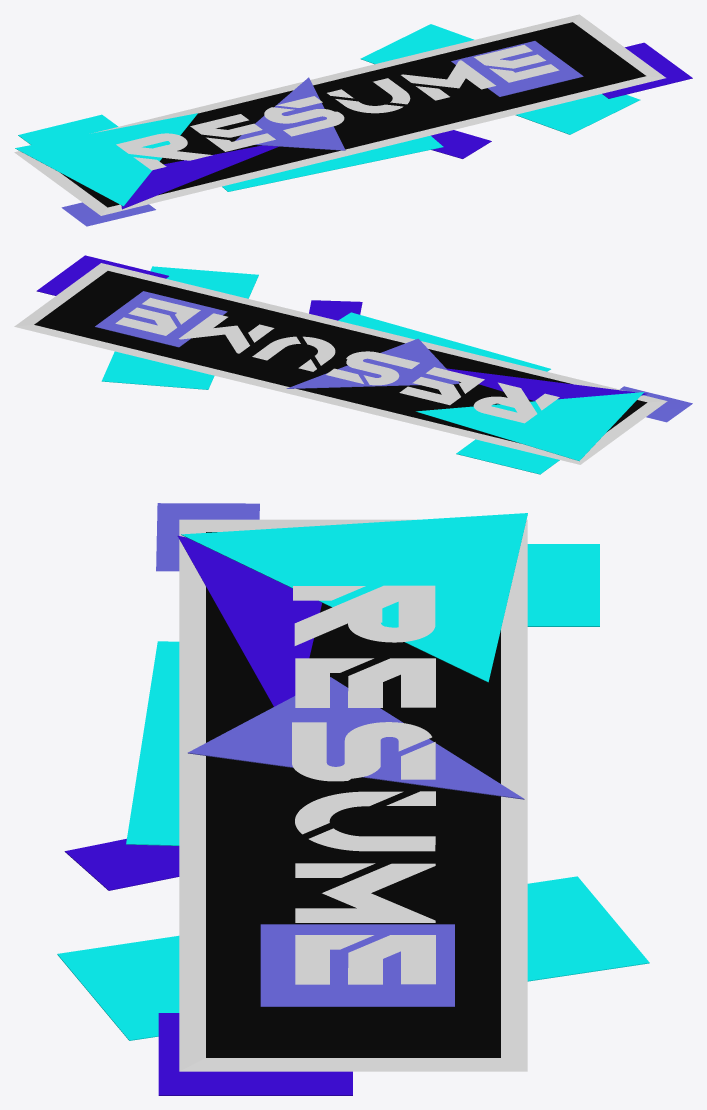
Rendered from resume.fbx.
3 renders of one model, top to bottom at view 1: azimuth 30°, elevation 25°; view 2: azimuth 150°, elevation 25°; view 3: azimuth 270°, elevation 25°, orthographic. The views are drawn at different scales.
Parts seen in each view (by area): view 1: Cube, Texte, Cube.004, Cube.001, Cube.005, Cube.008, Cube.009, Cube.003, Cube.006, Cube.002, Cube.007, Cube.010; view 2: Cube, Texte, Cube.004, Cube.001, Cube.008, Cube.009, Cube.005, Cube.003, Cube.002, Cube.006, Cube.007, Cube.010; view 3: Cube, Texte, Cube.004, Cube.001, Cube.009, Cube.008, Cube.005, Cube.003, Cube.006, Cube.002, Cube.007, Cube.010.
Part boxes in pixels (x1,y1,x2,y2): Cube: (14,14,665,215); Texte: (116,44,559,170); Cube.004: (15,113,197,206); Cube.001: (360,24,640,134); Cube.005: (121,145,278,209); Cube.008: (235,77,345,150); Cube.009: (451,41,583,96); Cube.003: (222,135,443,191); Cube.006: (602,42,692,98); Cube.002: (18,114,118,144); Cube.007: (431,130,491,158); Cube.010: (61,202,155,226); Cube: (14,263,667,464); Texte: (115,297,559,423); Cube.004: (416,392,643,461); Cube.001: (101,266,258,389); Cube.008: (286,338,459,388); Cube.009: (95,291,227,347); Cube.005: (446,368,647,401); Cube.003: (338,312,550,371); Cube.002: (456,439,559,474); Cube.006: (36,255,168,295); Cube.007: (309,300,362,320); Cube.010: (620,386,692,422); Cube: (179,519,527,1071); Texte: (292,585,435,984); Cube.004: (181,513,527,682); Cube.001: (57,876,649,1040); Cube.009: (260,924,454,1006); Cube.008: (188,677,524,799); Cube.005: (177,535,321,706); Cube.003: (126,641,179,845); Cube.006: (158,1013,352,1095); Cube.002: (527,544,599,626); Cube.007: (64,838,179,890); Cube.010: (156,503,259,571).
Size of the model in its own units: 360 by 5.1 by 152.
